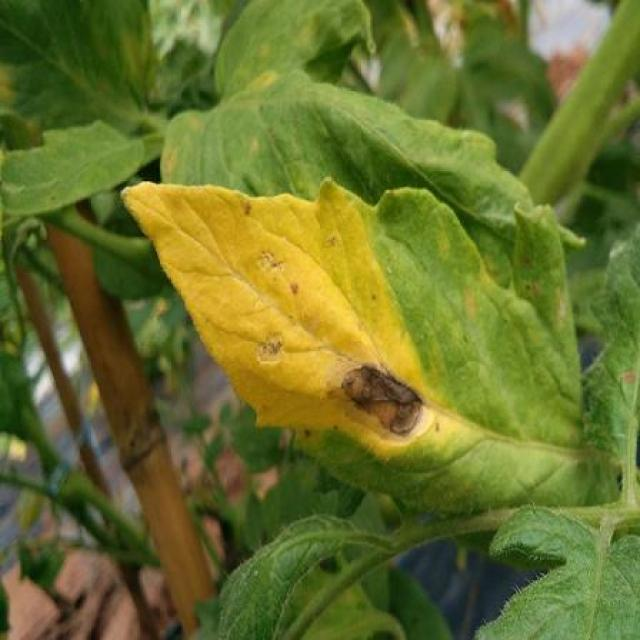Early Blight: (116, 175, 585, 522)
